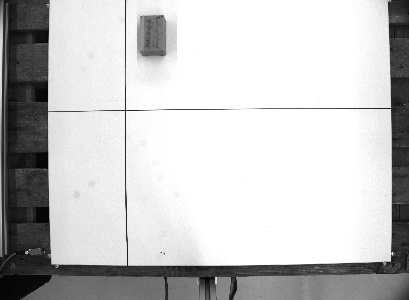b1: (134, 14, 169, 58)
